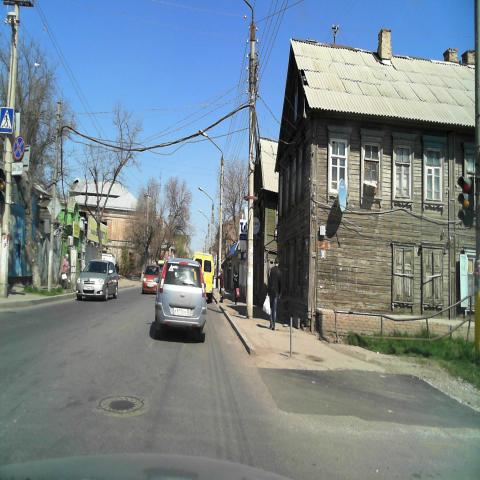8_5_4: (12, 162, 24, 175)
